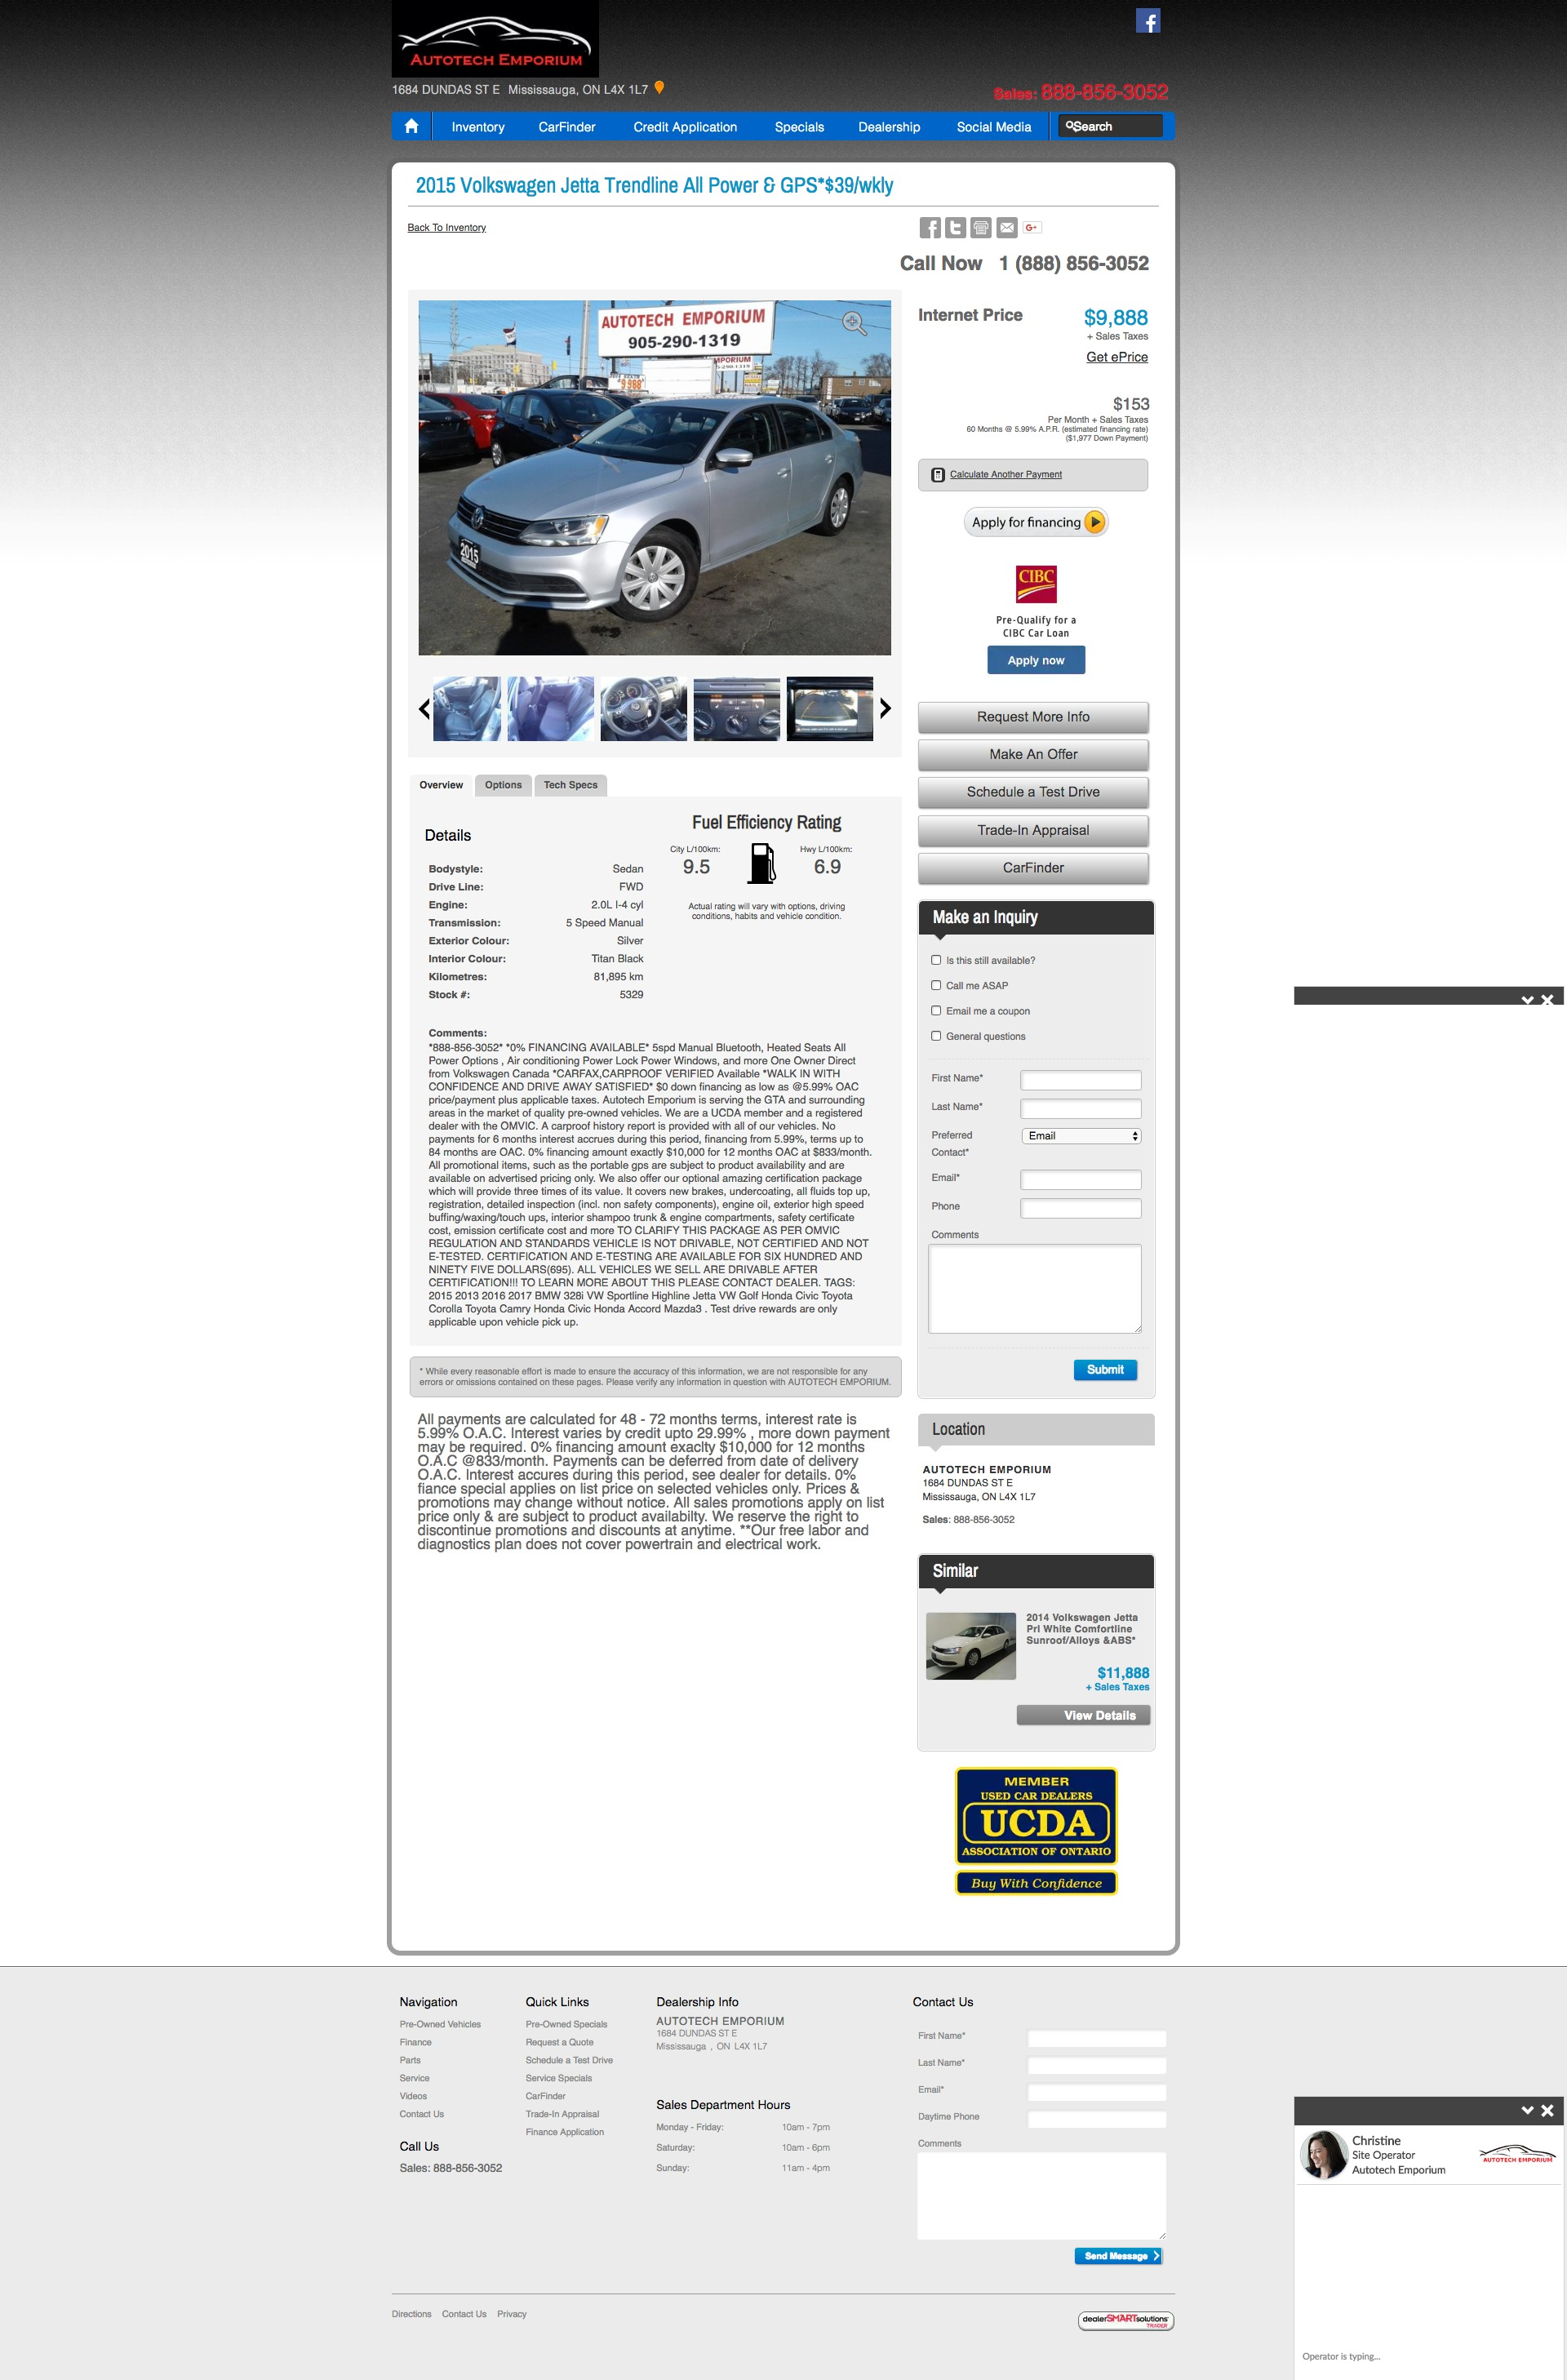car: (880, 698, 894, 720)
